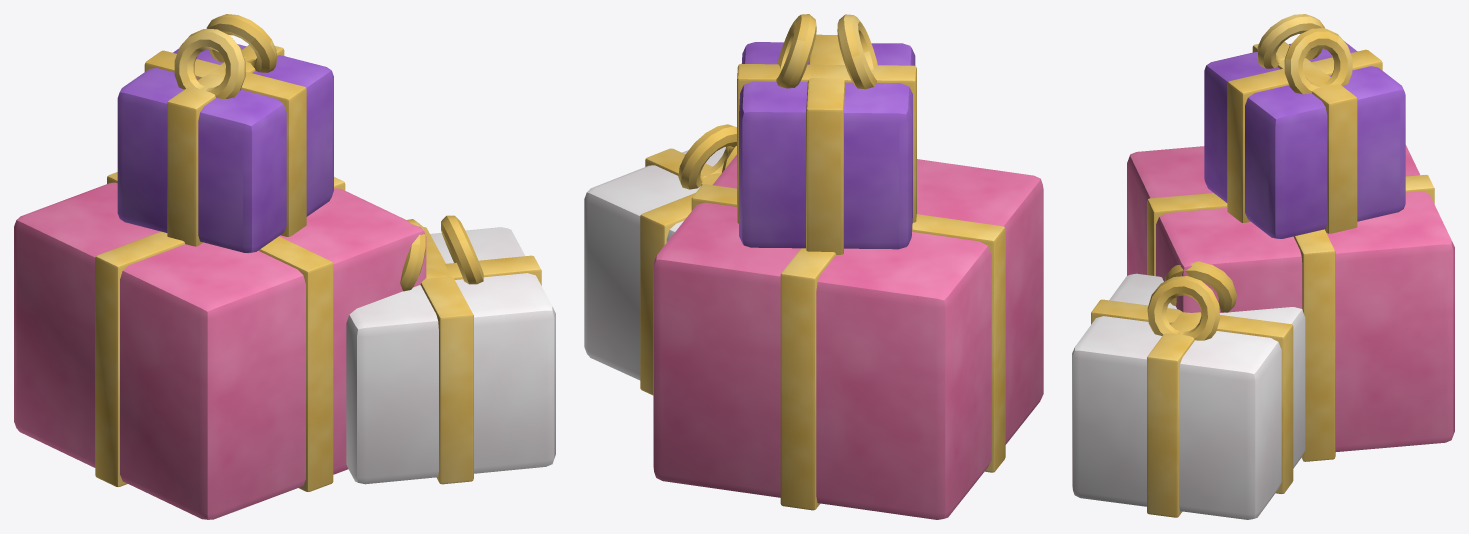
Rendered from GIN_GiftBoxes.fbx.
3 views of the same model, side by side, from view 1: azimuth 30°, elevation 25°; view 2: azimuth 150°, elevation 25°; view 3: azimuth 270°, elevation 25° (orthographic). The views are drawn at different scales.
Visible parts, largest first — view 1: GIN_GiftBoxes; view 2: GIN_GiftBoxes; view 3: GIN_GiftBoxes.
Boxes of the visible parts, x1,y1,x2,y2 form: GIN_GiftBoxes: (14, 14, 555, 519); GIN_GiftBoxes: (584, 14, 1043, 519); GIN_GiftBoxes: (1072, 14, 1454, 519).
Size of the model in its own units: 1.63 by 1.51 by 1.36.
